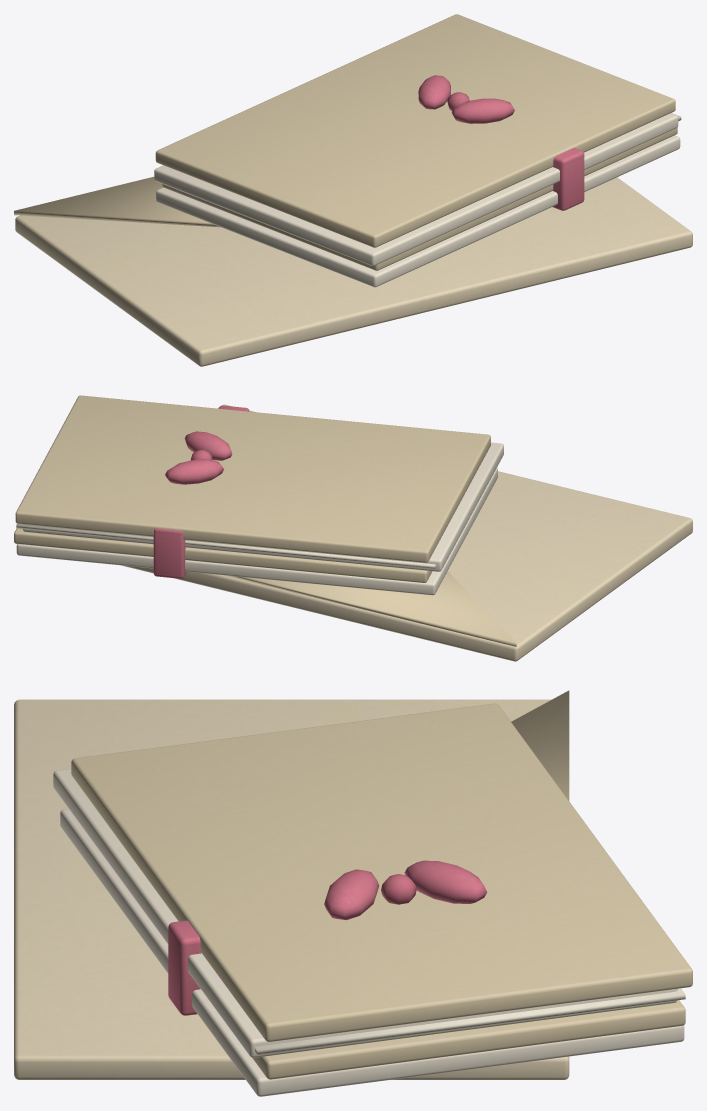
The model's file is tm-long-letter.glb.
3 views of the same model, one above another, from view 1: azimuth 30°, elevation 25°; view 2: azimuth 150°, elevation 25°; view 3: azimuth 270°, elevation 25° (orthographic). The views are drawn at different scales.
Visible parts, largest first — view 1: tm-long-letter; view 2: tm-long-letter; view 3: tm-long-letter.
Boxes of the visible parts, <box> form: tm-long-letter: <box>14,14,692,366</box>; tm-long-letter: <box>14,395,692,661</box>; tm-long-letter: <box>14,690,692,1096</box>.
Bounding box in the file's own units: 0.24 × 0.036 × 0.168.
Materials: 1 (1 with a texture image).
